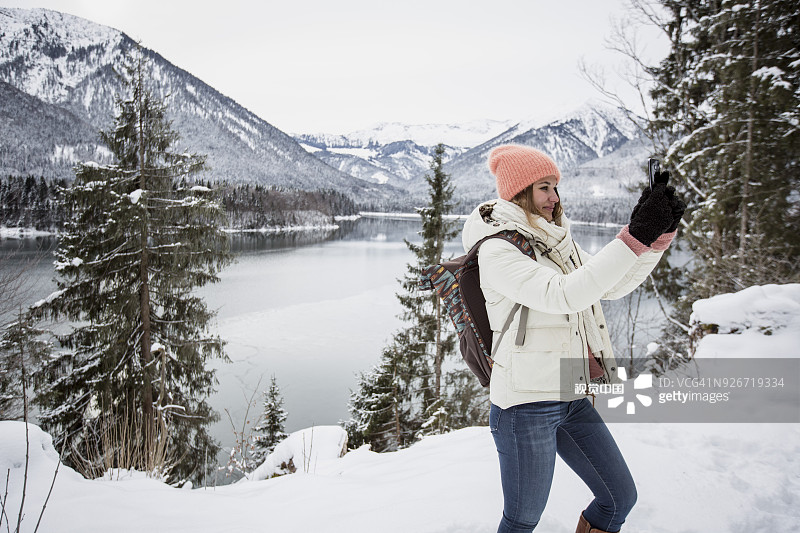taking photos: (612, 147, 707, 253)
